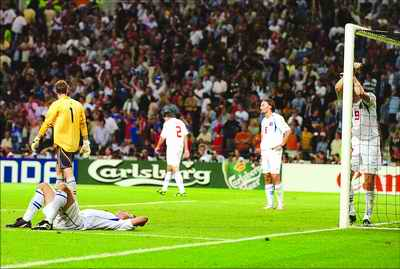10+: (1, 1, 400, 242)
down: (2, 176, 149, 238)
